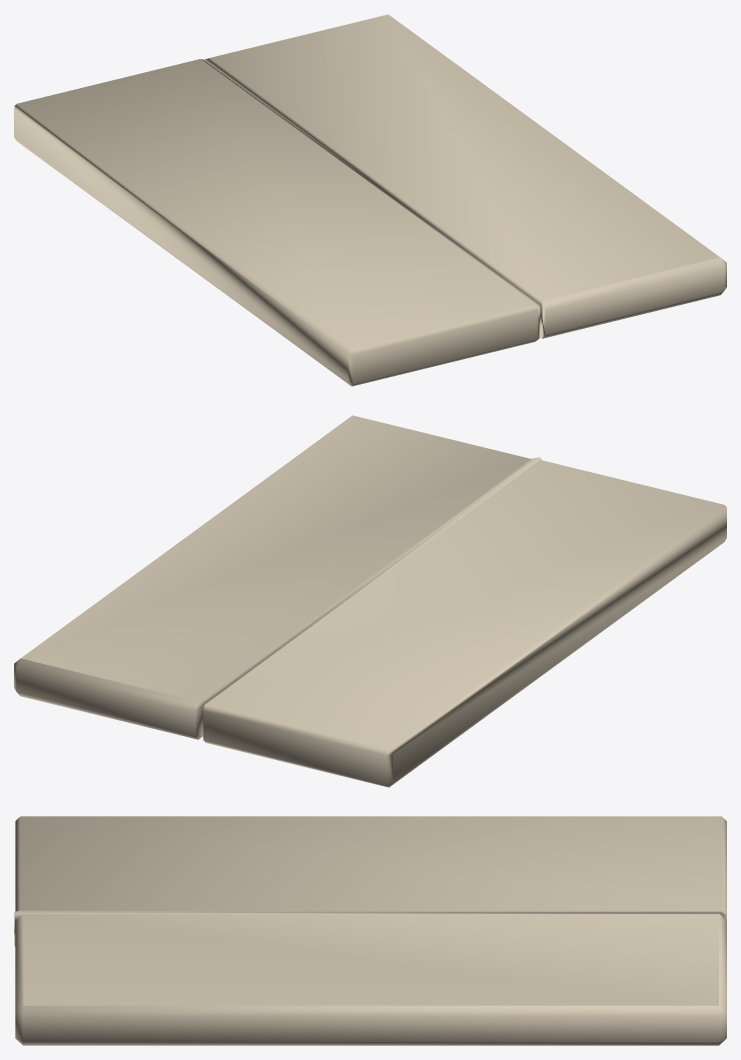
File: Sign_1.fbx
The picture shows the model from 3 angles, top to bottom: view 1: azimuth 30°, elevation 25°; view 2: azimuth 150°, elevation 25°; view 3: azimuth 270°, elevation 25°; orthographic projection. The views are drawn at different scales.
Visible parts, largest first — view 1: counter.002; view 2: counter.002; view 3: counter.002.
Part boxes in pixels (bbox=[...]): counter.002: bbox=[14, 14, 726, 386]; counter.002: bbox=[14, 415, 726, 787]; counter.002: bbox=[14, 816, 726, 1045].
Size of the model in its own units: 131 by 12.44 by 202.
